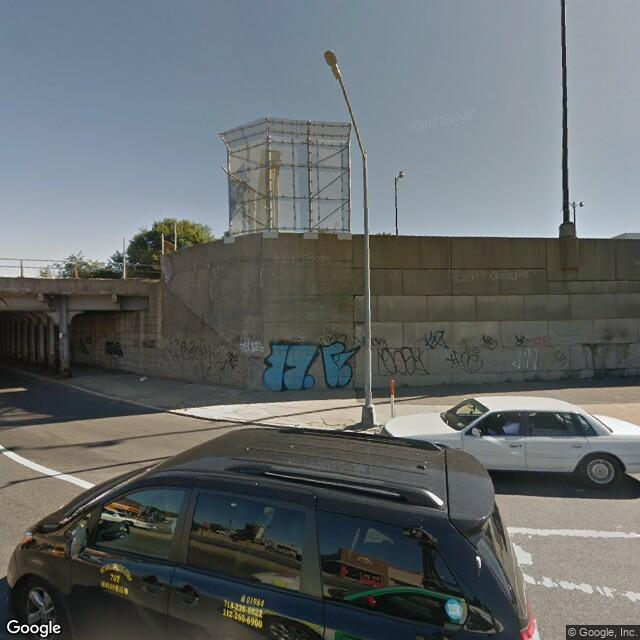litter: (134, 374, 152, 386)
